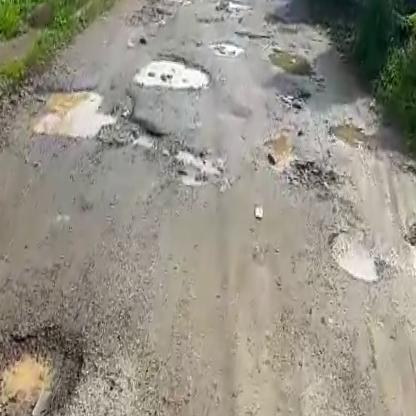pothole: (0, 304, 102, 416), (23, 76, 161, 156), (323, 219, 390, 289), (132, 47, 215, 93), (327, 114, 380, 155), (211, 37, 246, 56)
